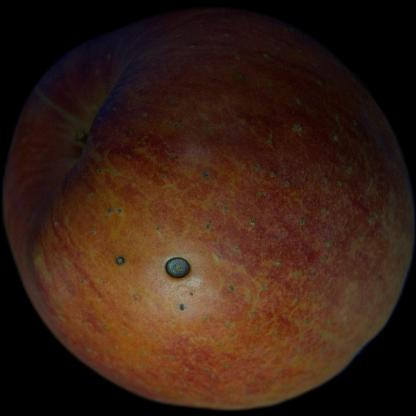defect: (90, 188, 212, 314)
